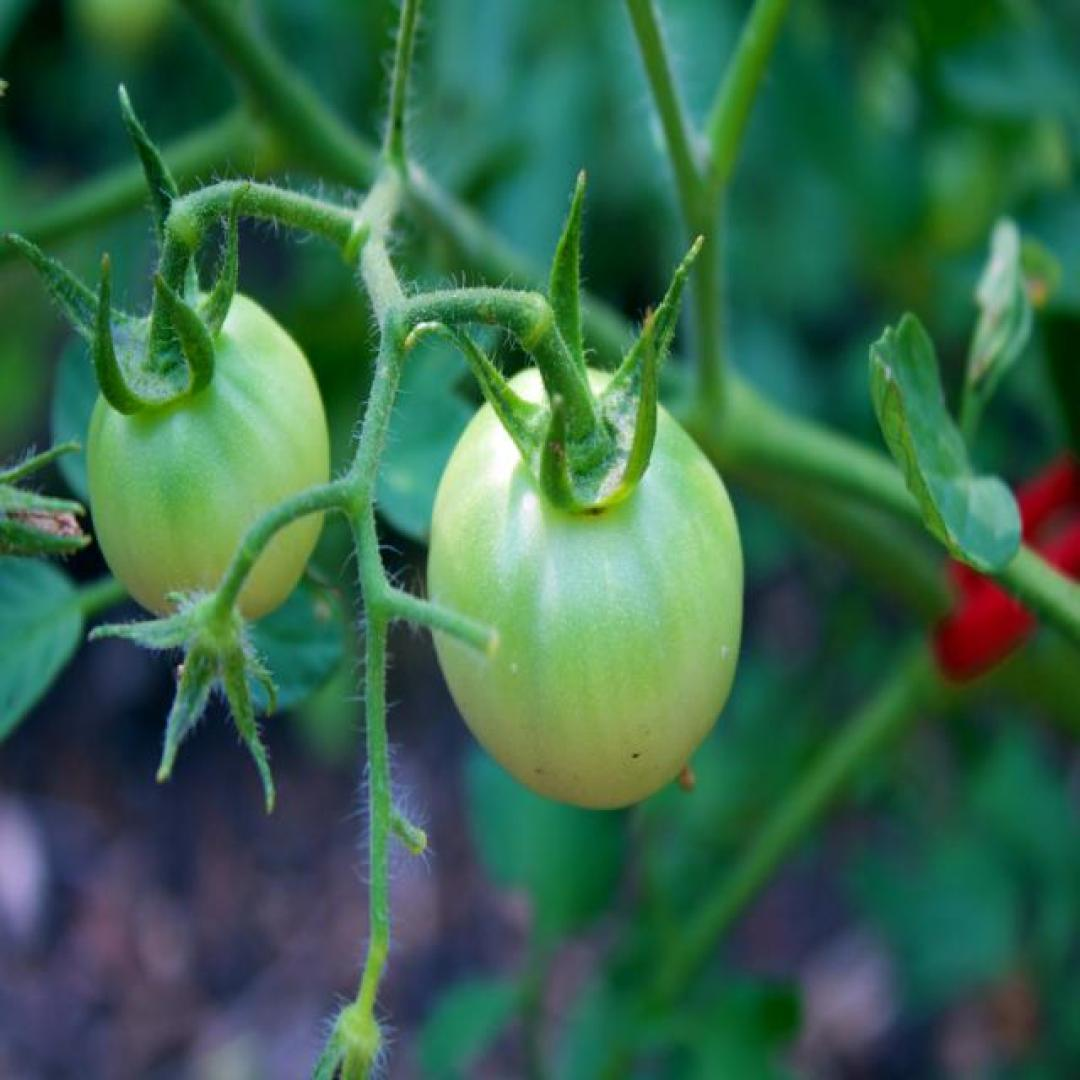mentah: (429, 363, 744, 807), (87, 290, 330, 636)
